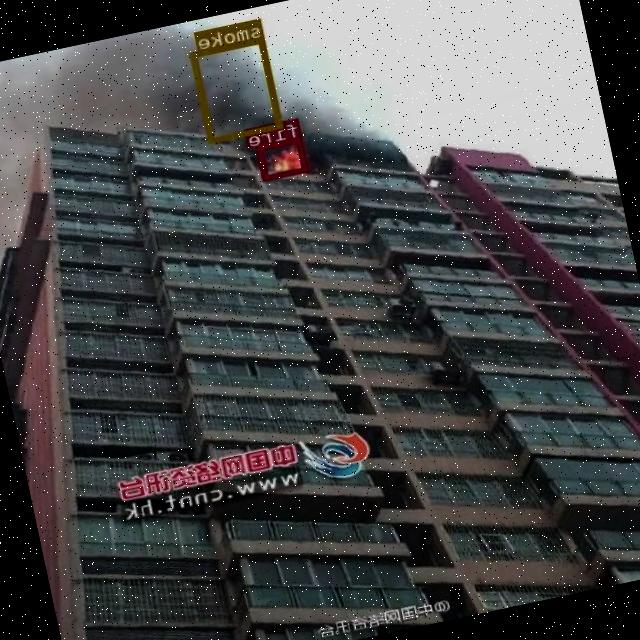fire: (258, 135, 310, 179)
smoke: (192, 36, 284, 142)
